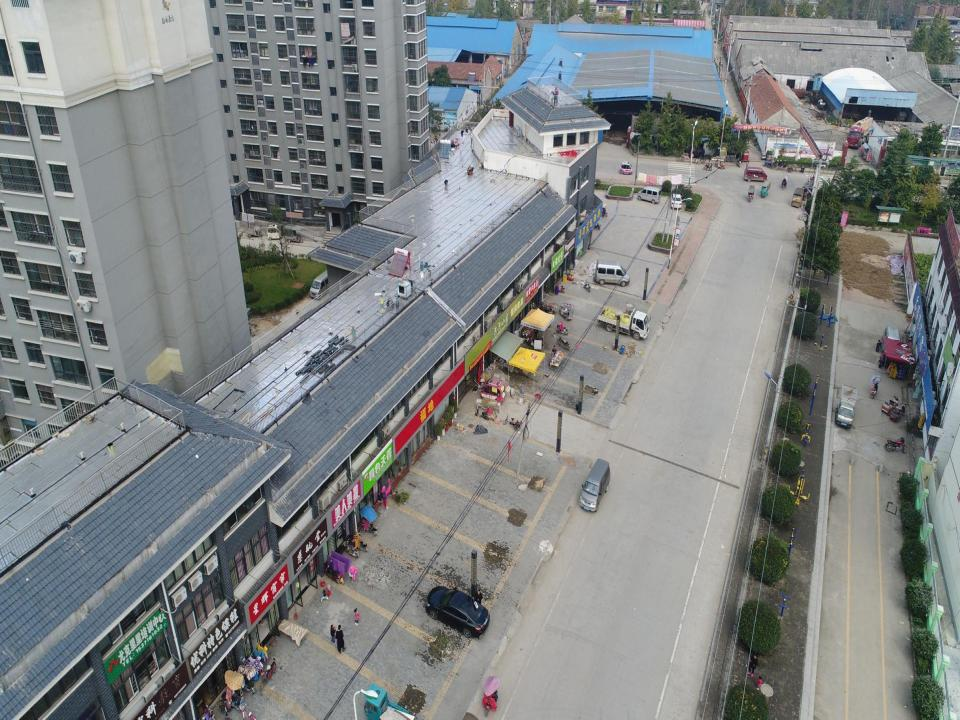car: (426, 584, 490, 638), (668, 190, 682, 210)
truck: (596, 302, 651, 339), (835, 380, 858, 430), (846, 115, 876, 151)
van: (579, 457, 612, 513), (593, 256, 631, 286), (308, 266, 340, 299), (880, 322, 900, 356), (638, 186, 662, 204), (744, 166, 768, 184)
